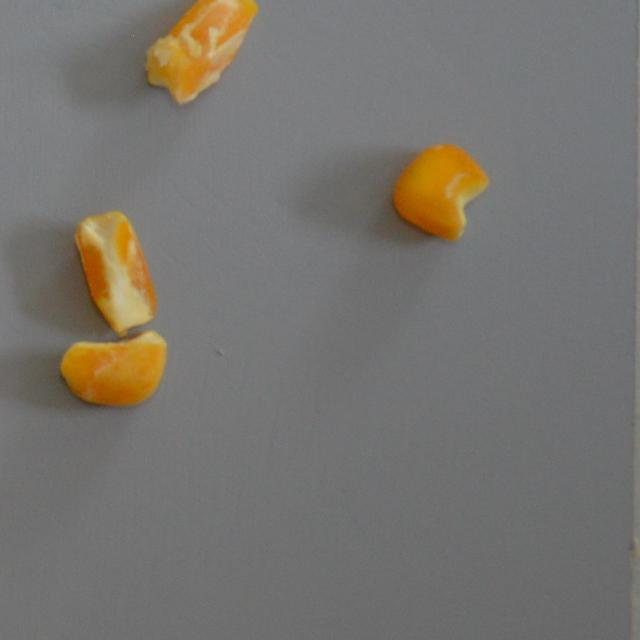no_canjicado: (390, 142, 488, 242)
pelicula: (142, 0, 260, 106), (72, 210, 159, 337), (54, 329, 170, 410)
